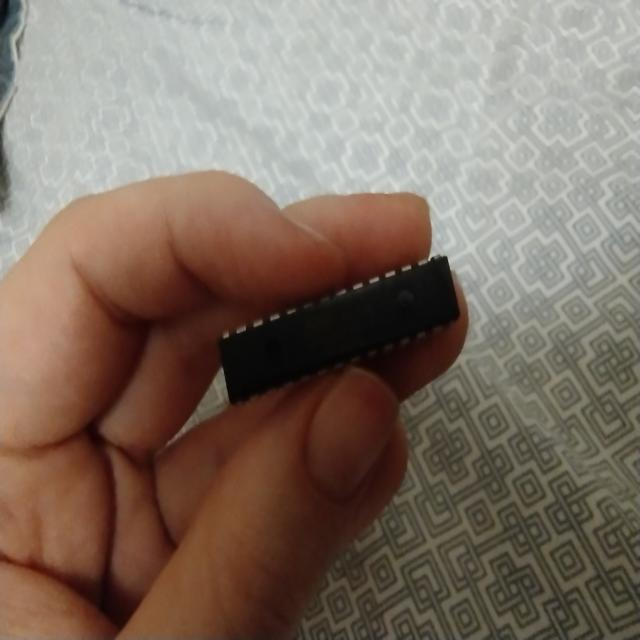atmega: (215, 251, 462, 408)
